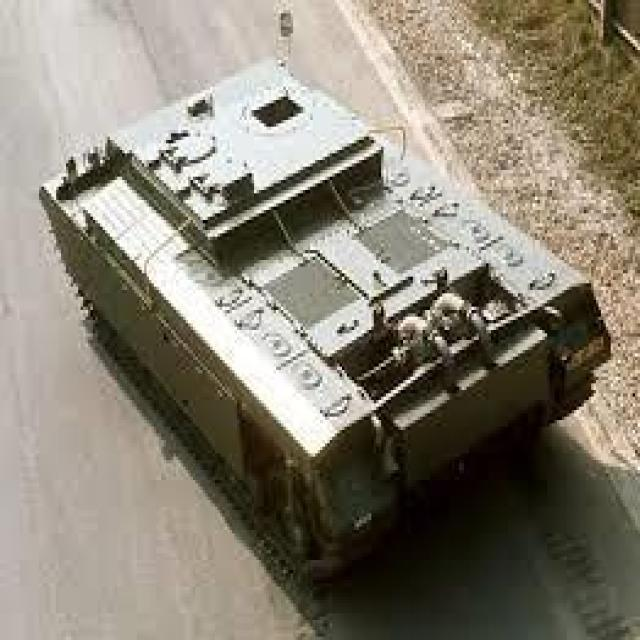MIL_MBT: (24, 48, 613, 585)
